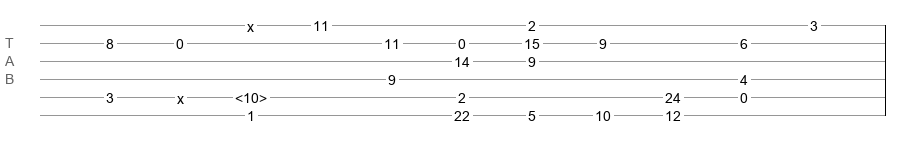0: (176, 36, 184, 46), (458, 36, 466, 46), (740, 90, 748, 100)
1: (247, 108, 255, 118)
10: (595, 108, 611, 118)
11: (313, 18, 329, 28), (384, 36, 400, 46)
12: (665, 108, 681, 118)
14: (454, 54, 470, 64)
15: (524, 36, 540, 46)
2: (458, 90, 466, 100), (528, 18, 536, 28)
22: (454, 108, 470, 118)
24: (665, 90, 681, 100)
3: (106, 90, 114, 100), (810, 18, 818, 28)
4: (740, 72, 748, 82)
5: (528, 108, 536, 118)
6: (740, 36, 748, 46)
8: (106, 36, 114, 46)
9: (388, 72, 396, 82), (528, 54, 536, 64), (599, 36, 607, 46)
harmonic: (235, 90, 267, 100)
x: (177, 91, 184, 99), (247, 19, 254, 27)
